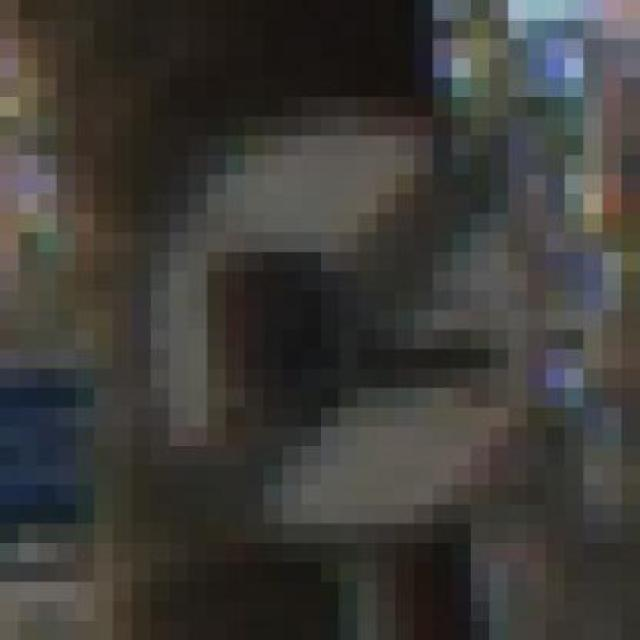Overtaking by trucks is prohibited: (75, 78, 583, 562)
